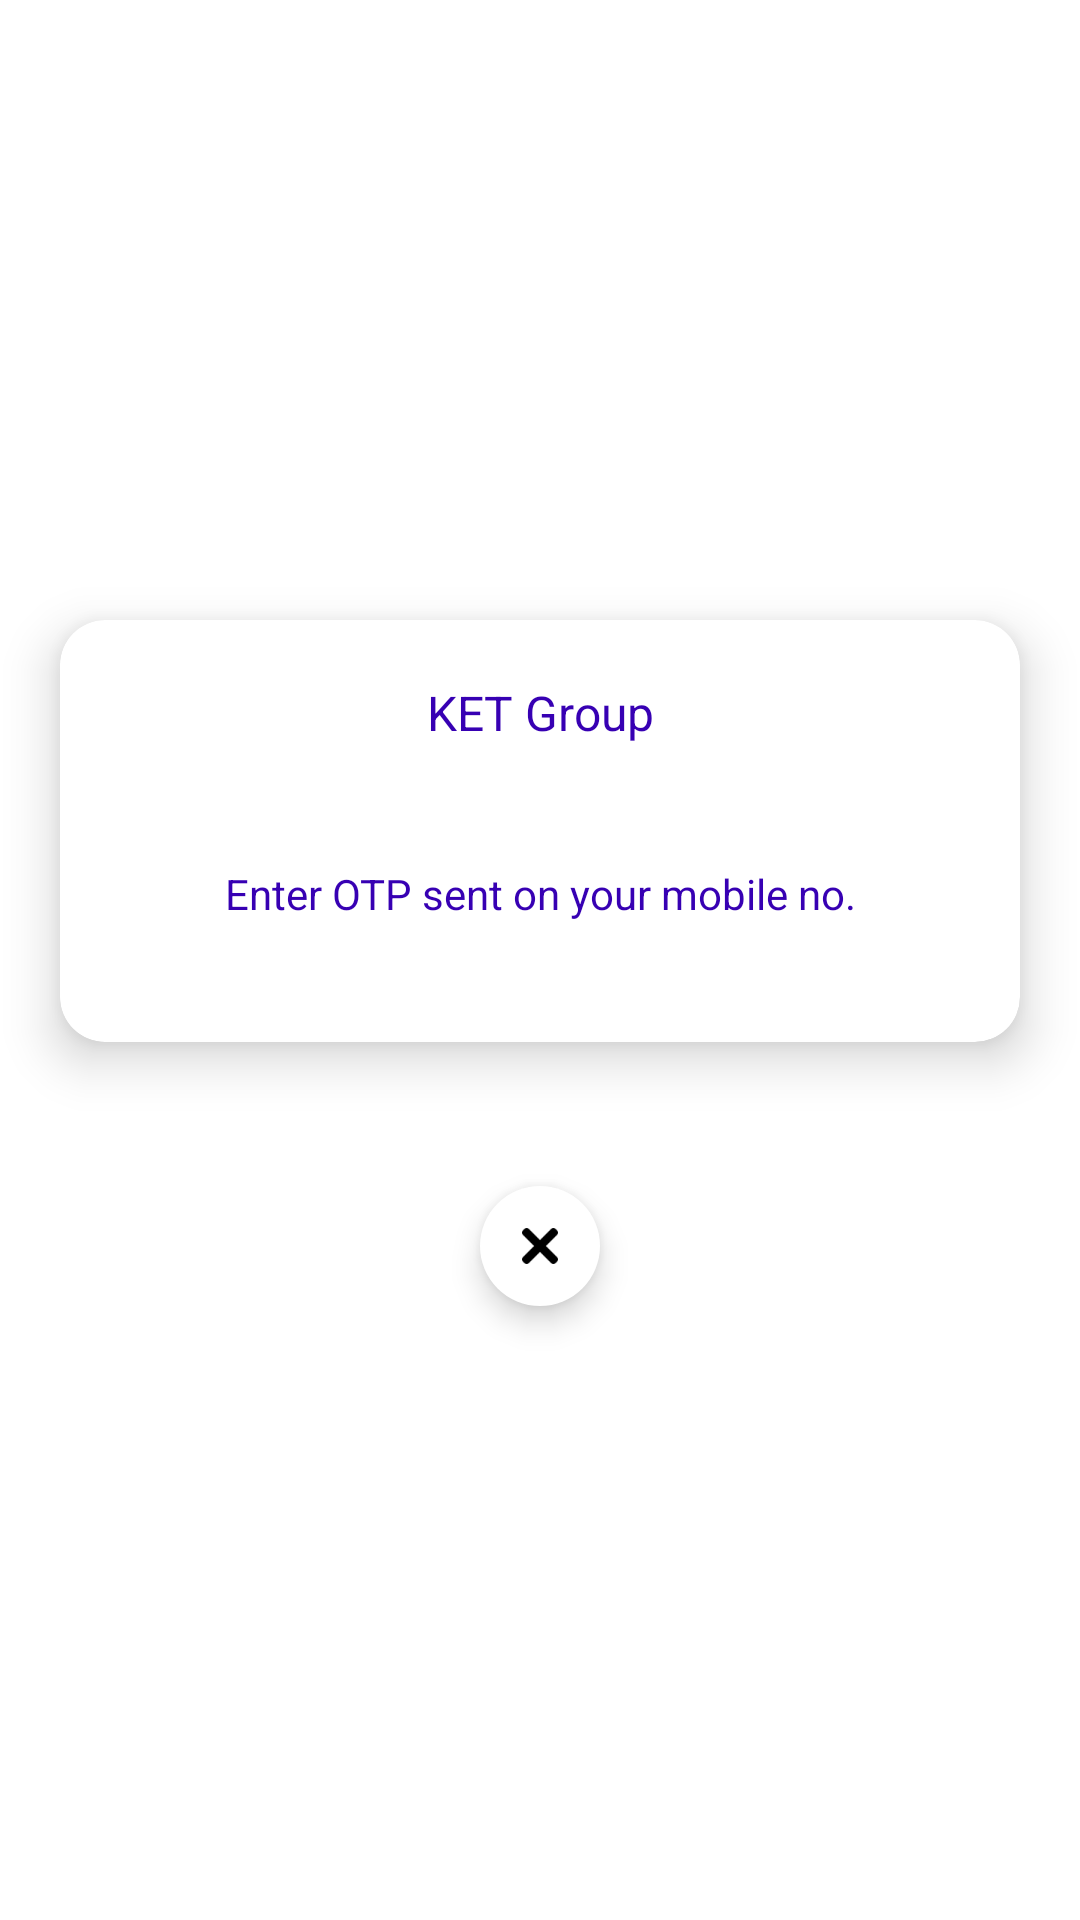

Screen size 1080w x 1920h. Icon name, then its box in pixels as (x1, y1, x2, y2):
close: (480, 1228, 601, 1316)
